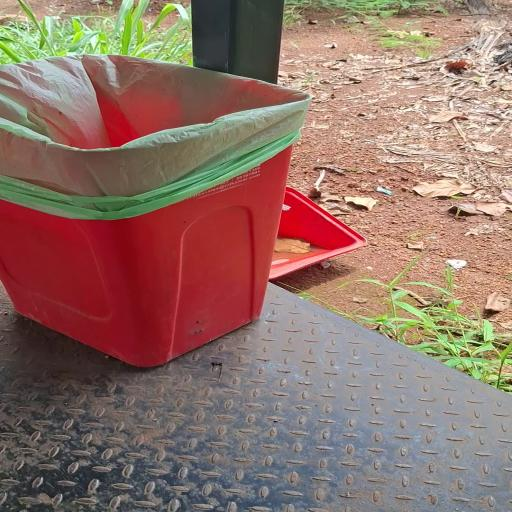Nilkamal-dustbin-detection: (0, 55, 309, 366)
